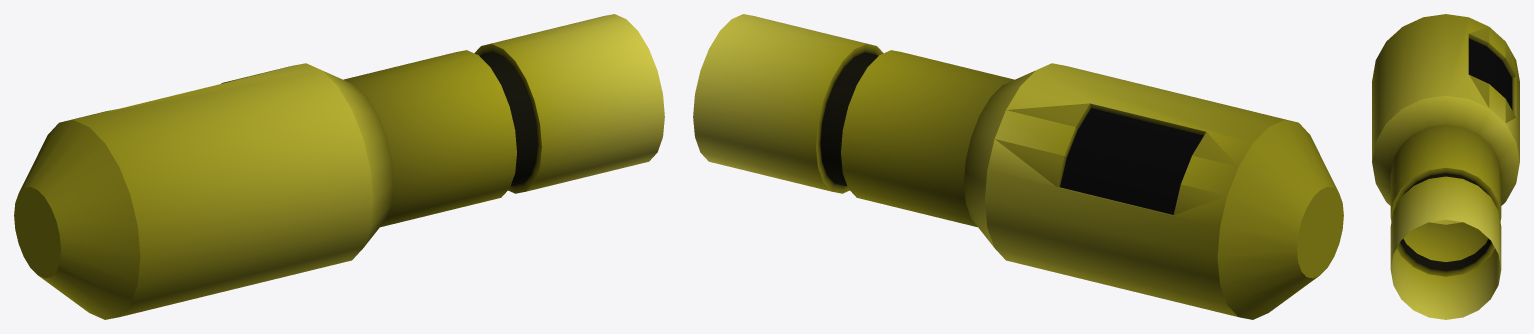
Rendered from Gun.fbx.
The picture shows the model from 3 angles, left to right: view 1: azimuth 30°, elevation 25°; view 2: azimuth 150°, elevation 25°; view 3: azimuth 270°, elevation 25°; orthographic projection. The views are drawn at different scales.
Visible parts, largest first — view 1: Scene_2:pCylinder105; view 2: Scene_2:pCylinder105; view 3: Scene_2:pCylinder105.
Part boxes in pixels (x1,y1,x2,y2): Scene_2:pCylinder105: (14,14,664,319); Scene_2:pCylinder105: (693,14,1343,319); Scene_2:pCylinder105: (1372,14,1519,319).
Size of the model in its own units: 77.45 by 23.36 by 23.36.
